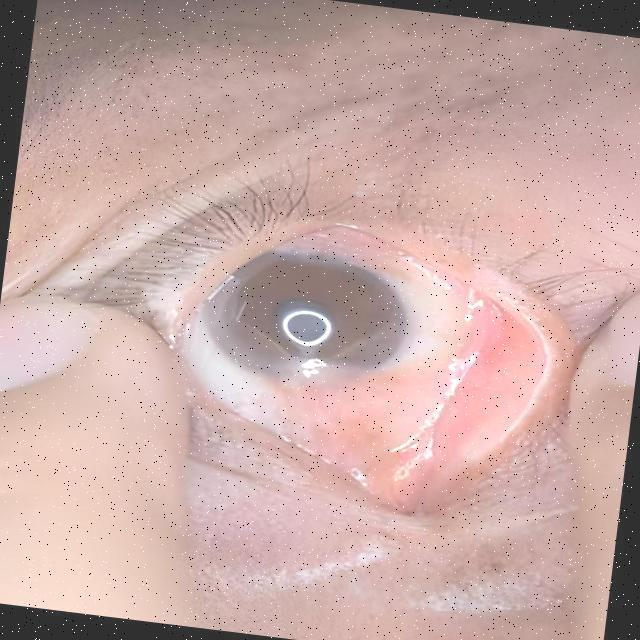Pterygium: (238, 318, 436, 470)
